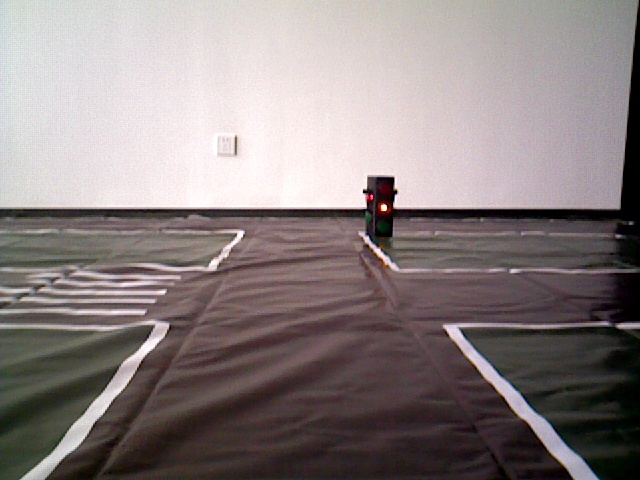yellow: (364, 174, 395, 241)
